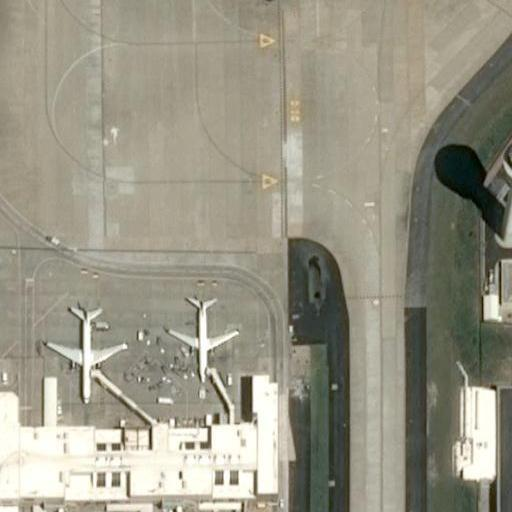Aircraft: (42, 297, 130, 404), (166, 285, 244, 394)
